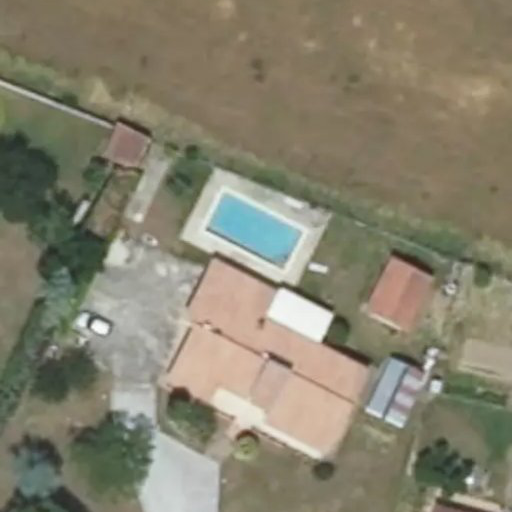pool: (205, 187, 301, 267)
